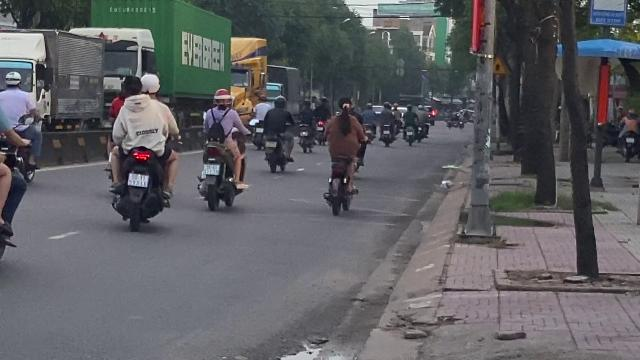helmet: (212, 88, 232, 114), (140, 73, 160, 97), (2, 70, 22, 88)
licenseplate: (128, 173, 148, 187), (203, 164, 219, 174)
motorcyclist: (104, 71, 180, 229), (196, 86, 248, 209), (322, 95, 368, 217), (1, 71, 44, 185)
nohelmet: (119, 73, 141, 97), (338, 97, 352, 114)
